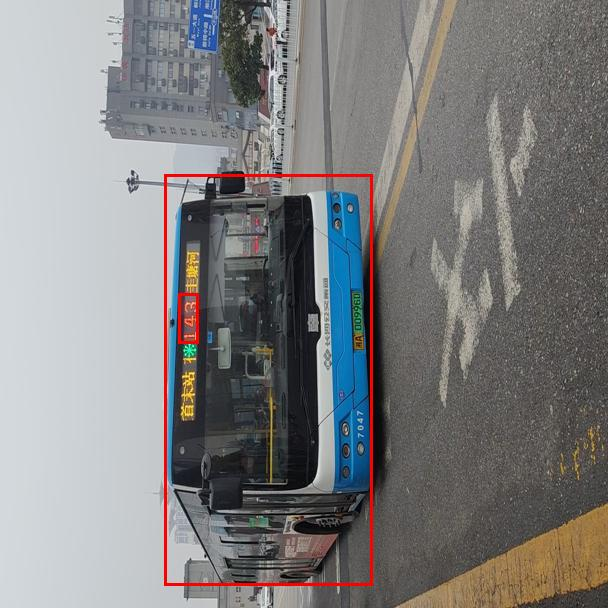bus: (164, 174, 372, 585)
screen: (178, 293, 198, 343)
